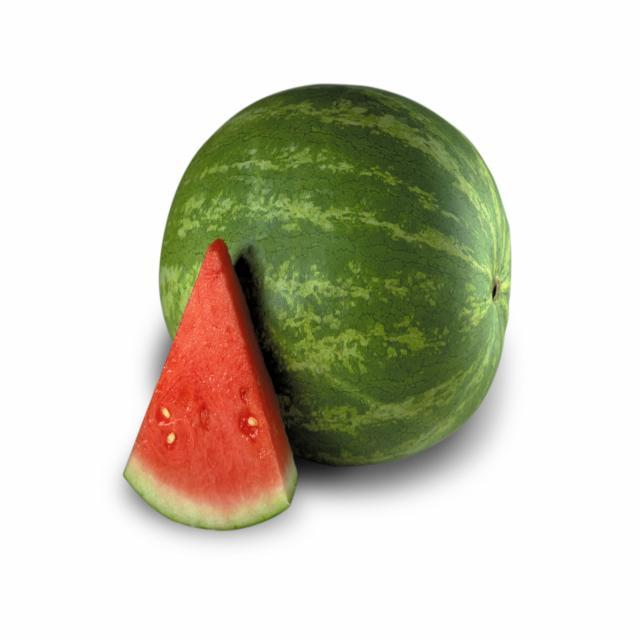WATERMELON: (157, 85, 515, 467), (162, 83, 514, 442), (122, 240, 299, 533)
